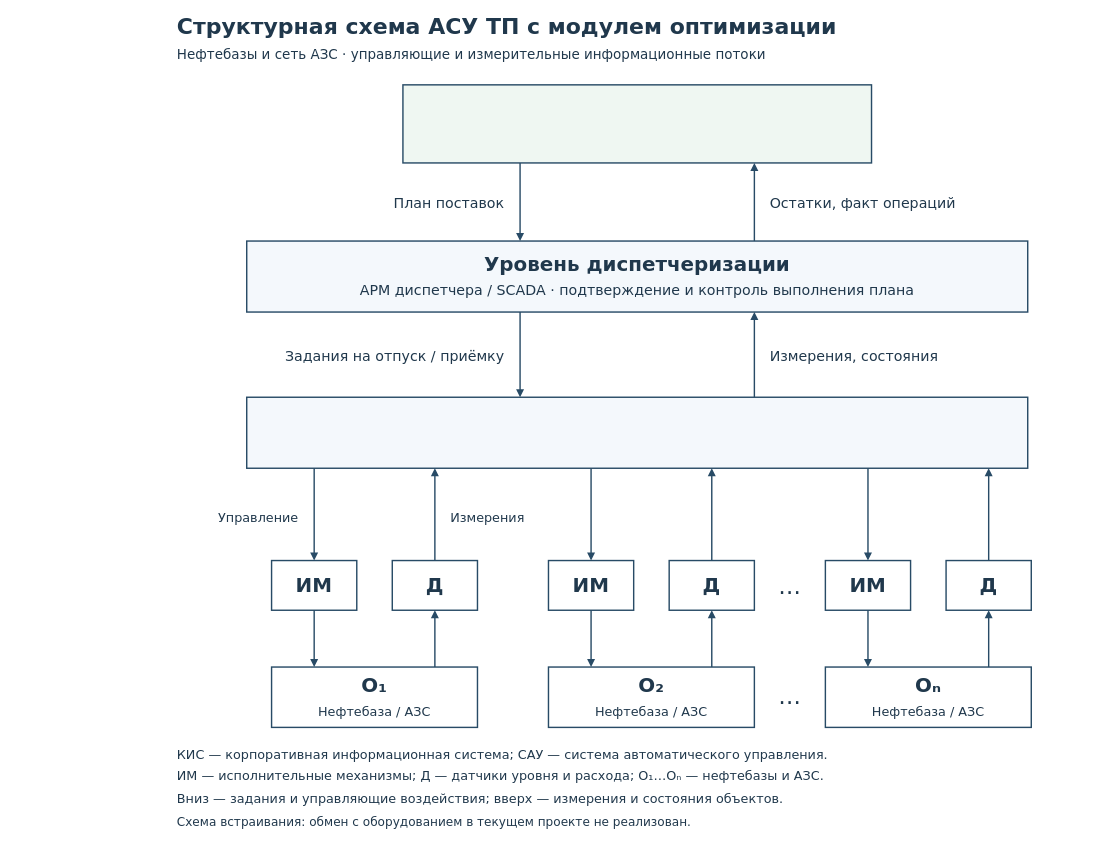
This 1110x842 diagram has some shape labels left out. The shapes that lost their labels are listed below. From the top down, each one's centre as x and y in pixels, then its label:
At [637,123]: "КИС · модуль оптимизации поставок Расчёт плана x[i,j], стоимости и остатков".
At [637,432]: "Уровень САУ Локальные контроллеры нефтебаз и АЗС".
